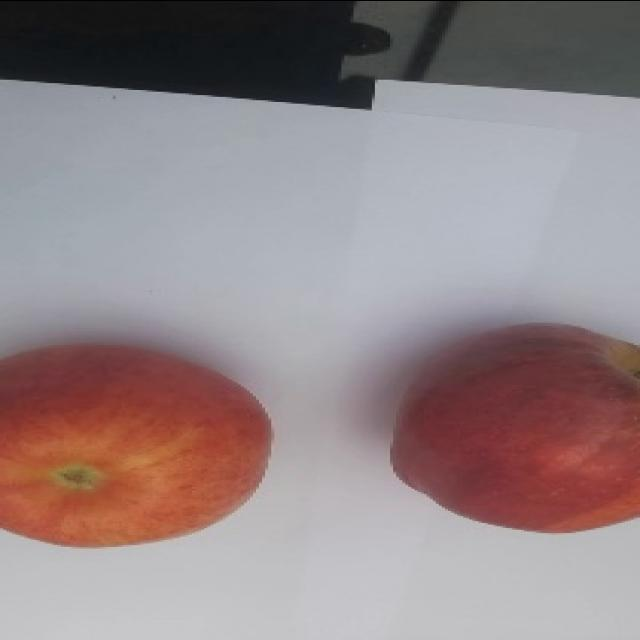Apple: (0, 341, 272, 548), (389, 320, 639, 533)
